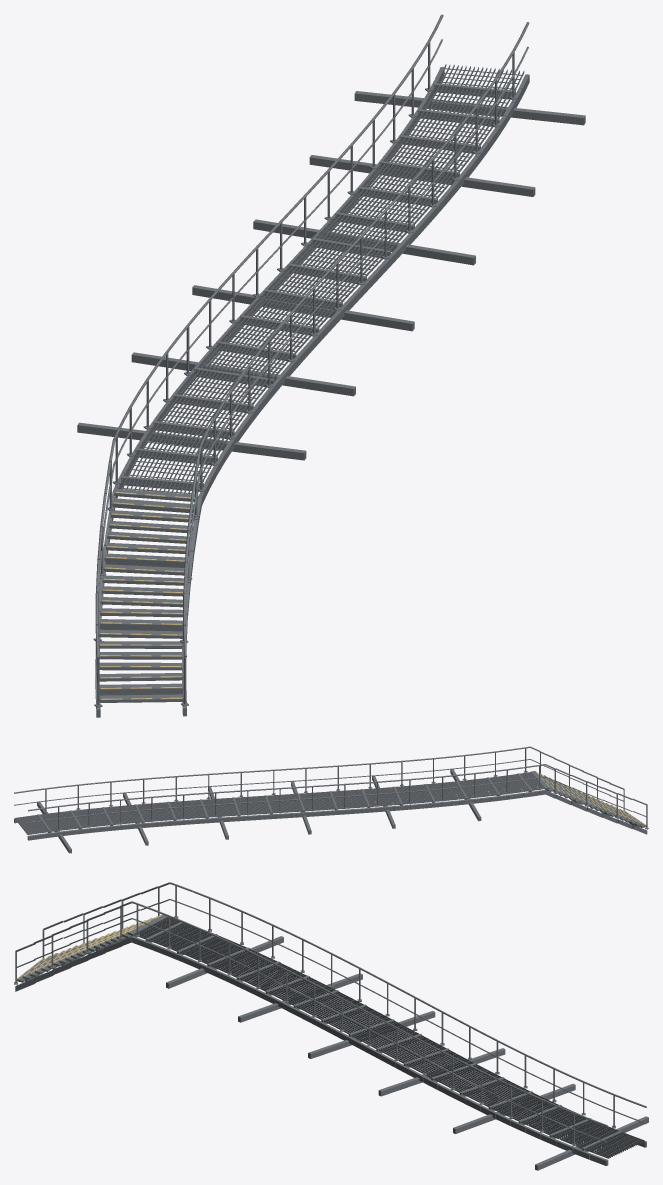
File: BN_T01_UpperWalk.fbx
3 views of the same model, one above another, from view 1: azimuth 30°, elevation 25°; view 2: azimuth 150°, elevation 25°; view 3: azimuth 270°, elevation 25° (orthographic). The views are drawn at different scales.
Visible parts, largest first — view 1: BN_T01_UpperWalk; view 2: BN_T01_UpperWalk; view 3: BN_T01_UpperWalk.
Boxes of the visible parts, x1,y1,x2,y2 form: BN_T01_UpperWalk: (77, 14, 585, 717); BN_T01_UpperWalk: (14, 746, 648, 853); BN_T01_UpperWalk: (14, 882, 648, 1170).
Bounding box in the file's own units: 1771 × 362 × 1687.
